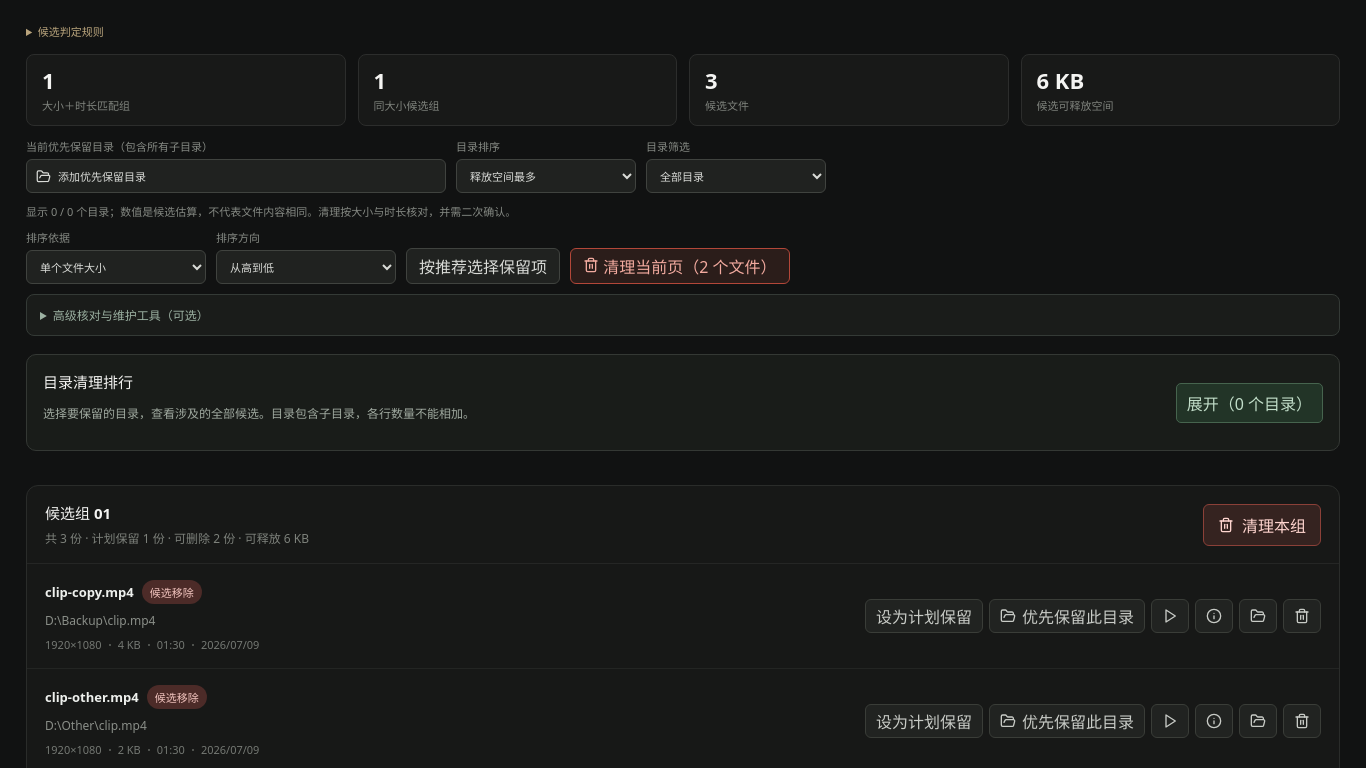
Test case: group cleanup button › keeps the group visible and confirmation open when the queue rejects submission
Step 1. Click the button "清理本组" → (1262, 524), box left=1203, top=504, right=1321, bottom=546
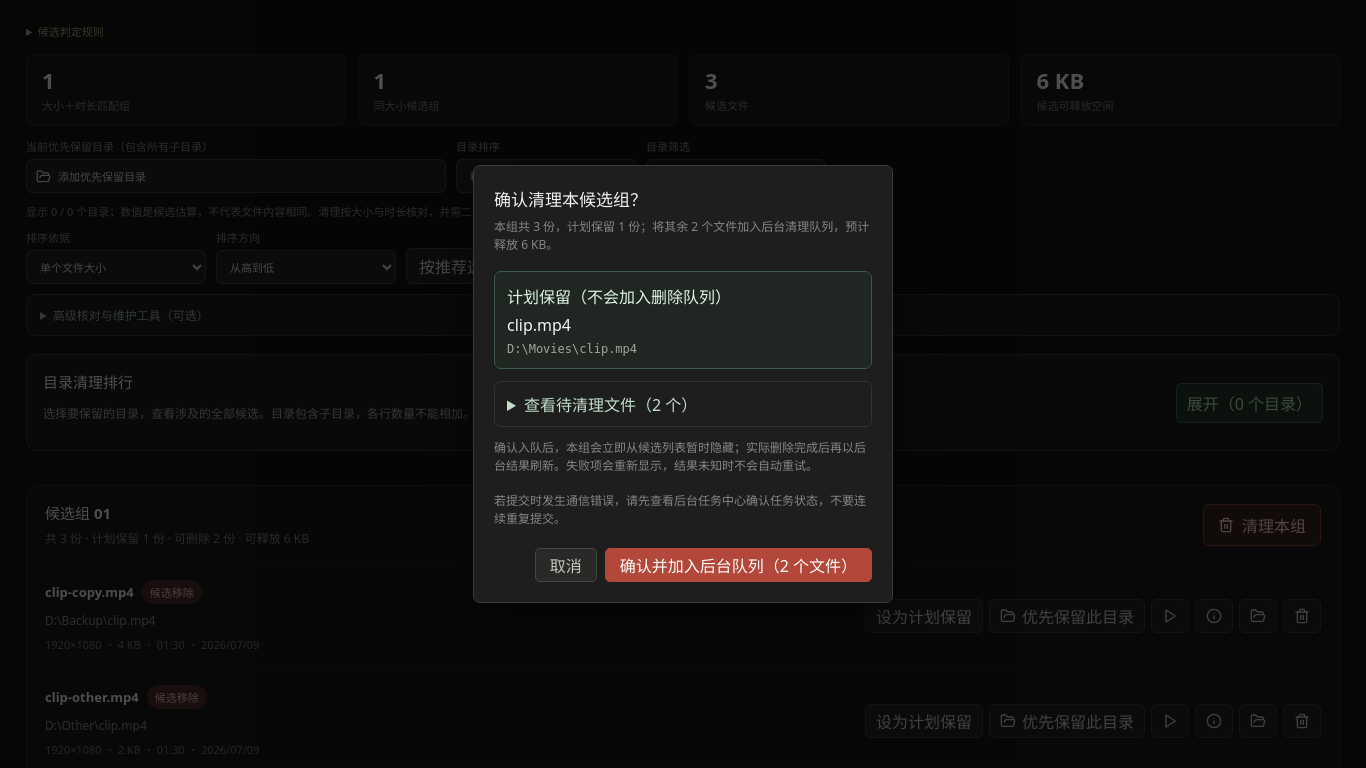
Step 2. Click the button "确认并加入后台队列（2 个文件）" → (738, 565), box left=605, top=548, right=872, bottom=582
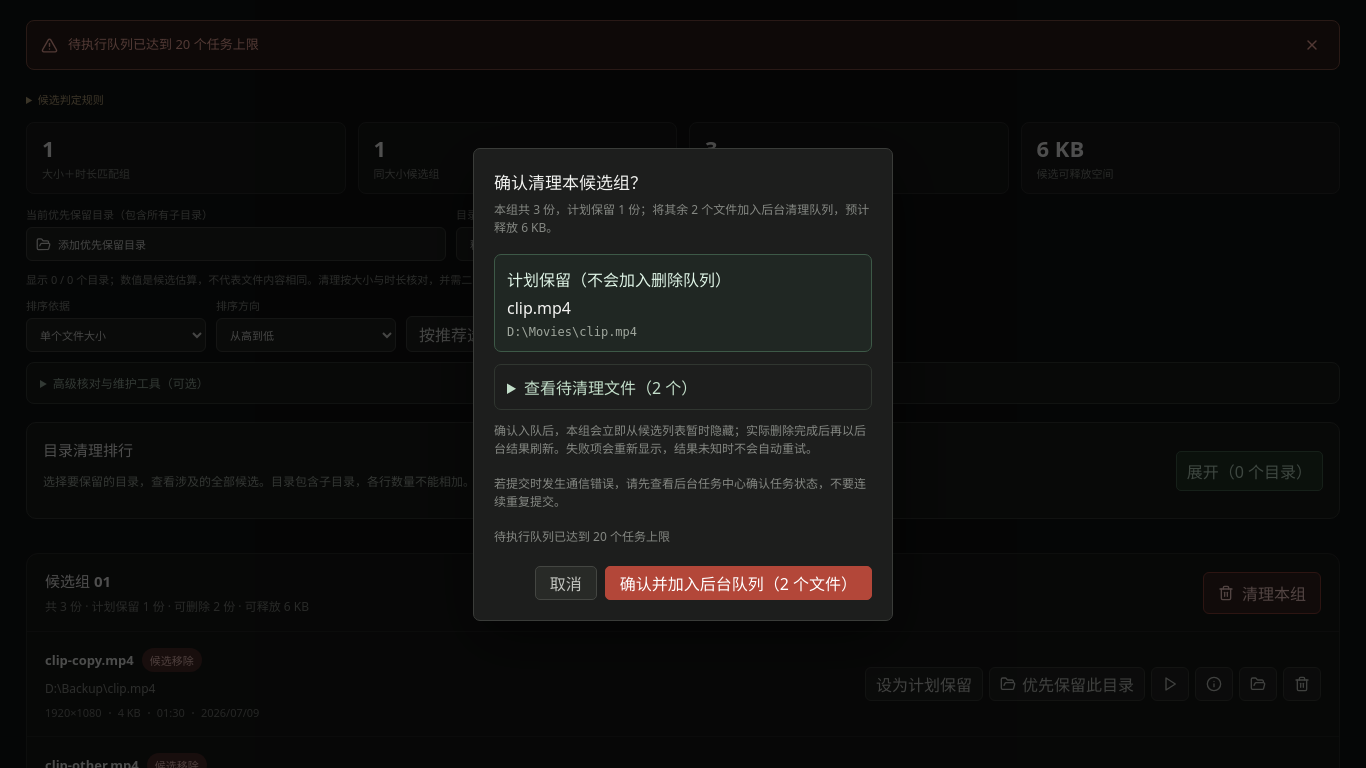
Expected: the button "清理本组" is shown, left=1203, top=572, right=1321, bottom=614
Expected: the message "待执行队列已达到 20 个任务上限" below "若提交时发生通信错误，请先查看后台任务中心确认任务状态，不要连续重复提交。" is shown, left=494, top=528, right=670, bottom=544
